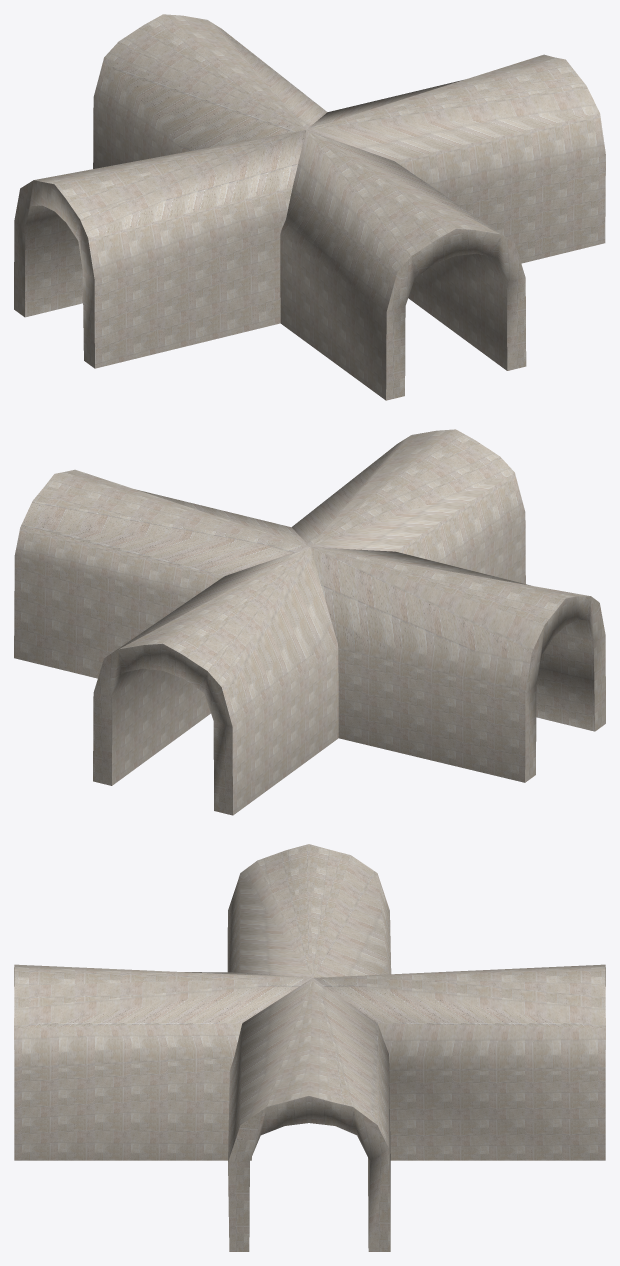
The model's file is tonnel_connector_4.fbx.
3 views of the same model, one above another, from view 1: azimuth 30°, elevation 25°; view 2: azimuth 150°, elevation 25°; view 3: azimuth 270°, elevation 25° (orthographic).
Parts seen in each view (by area): view 1: Cube; view 2: Cube; view 3: Cube.
Boxes of the visible parts, box(x1,y1,x2,y2) form: Cube: box(14, 14, 605, 400); Cube: box(14, 429, 605, 815); Cube: box(14, 844, 605, 1251).
Size of the model in its own units: 3061 by 885 by 3038.
